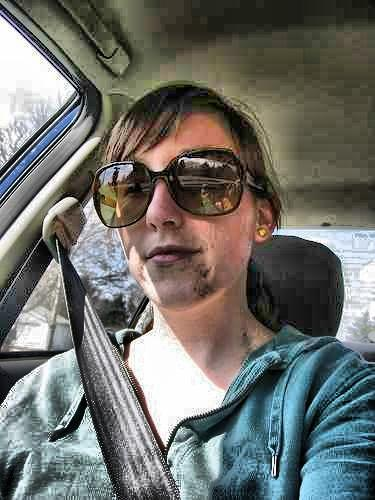seatbelt: (4, 207, 154, 465)
